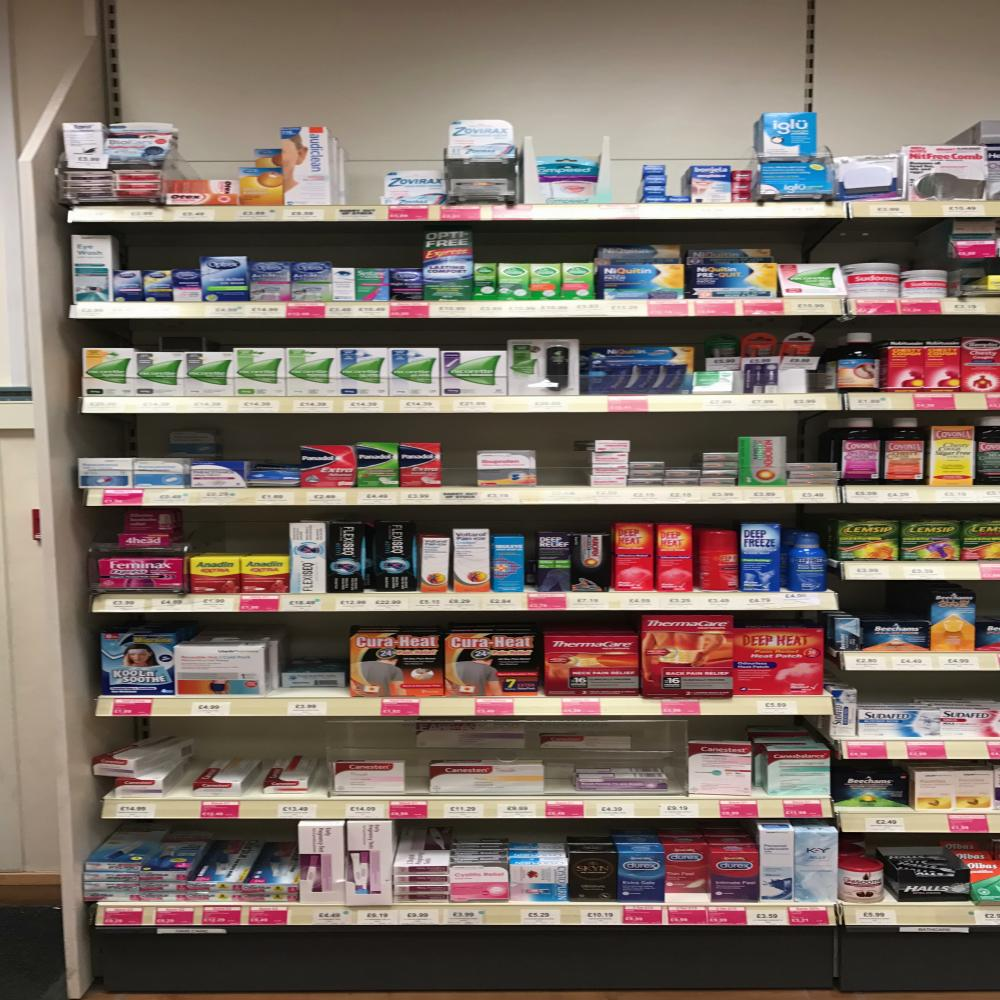shelf: (91, 903, 1000, 925), (69, 298, 1000, 319), (76, 392, 1000, 413), (81, 485, 1000, 506), (79, 485, 1000, 505), (61, 201, 1000, 219), (91, 695, 834, 716), (91, 591, 840, 611), (99, 798, 835, 818), (836, 740, 1000, 760), (839, 652, 1000, 672), (841, 560, 1000, 580), (843, 814, 1000, 833)
